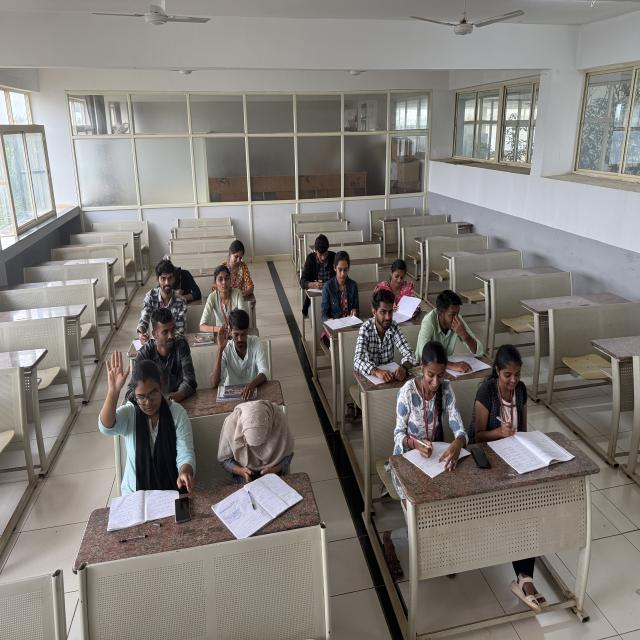Hand Rising: (92, 343, 192, 478), (215, 309, 271, 377)
Reading: (388, 258, 432, 326), (323, 252, 360, 330)
Sleeping: (168, 260, 204, 304)
Using Phone: (220, 393, 294, 485)
Writing: (399, 338, 468, 466), (473, 336, 539, 444)
